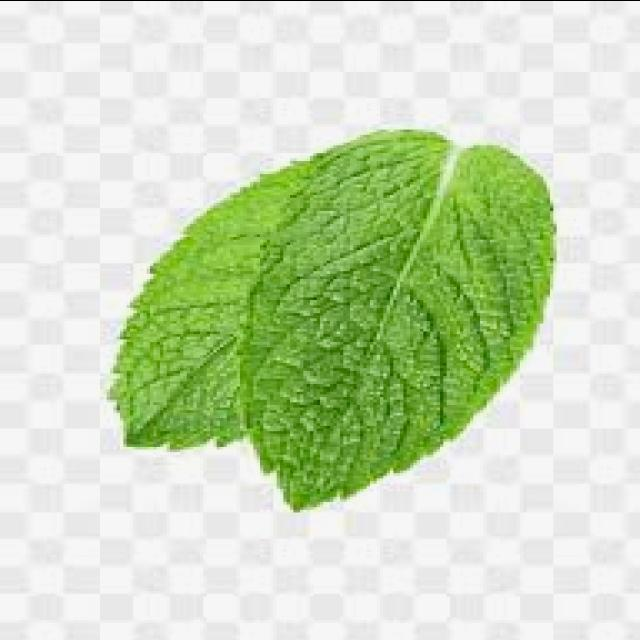leaf: (106, 126, 556, 512)
